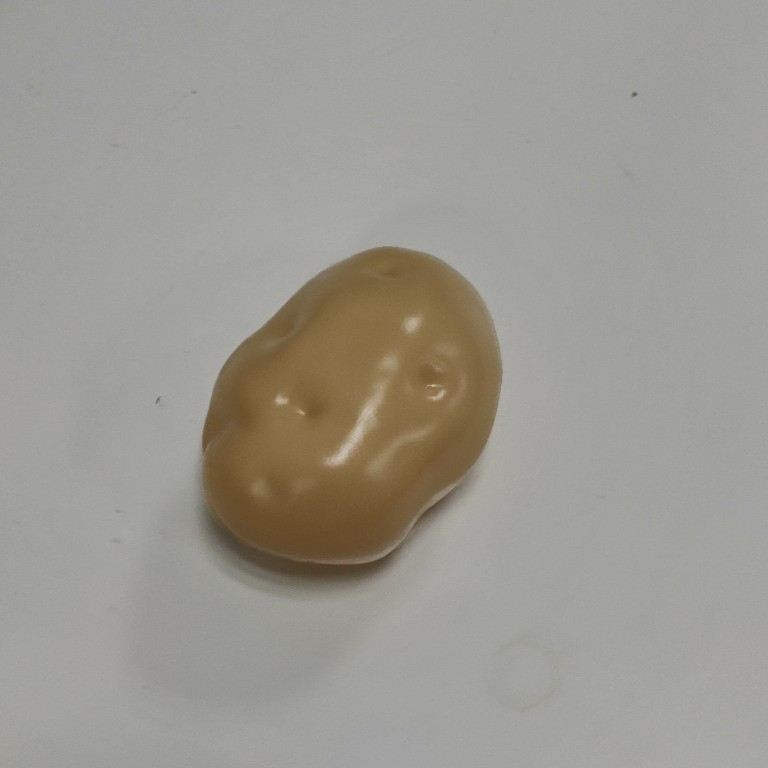fruit_potato: (196, 242, 507, 574)
